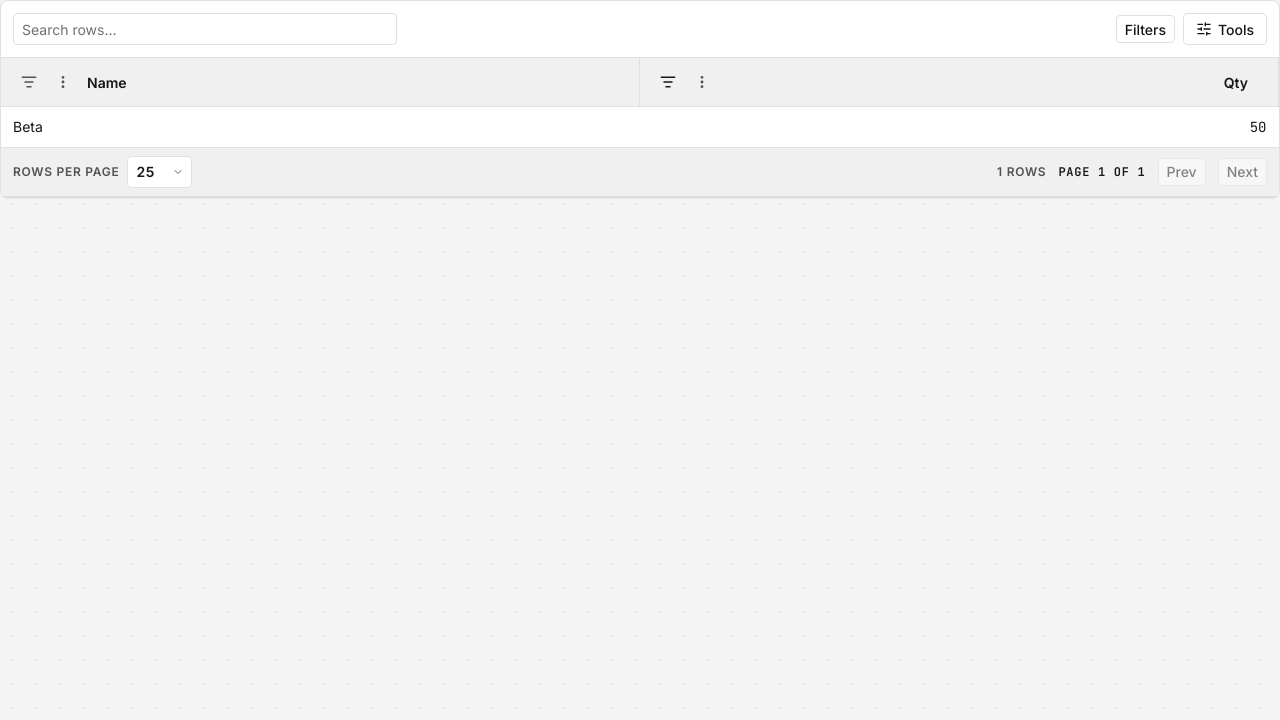
it: floating filter sync › preserves the operator the menu set (greaterThan), not resetting to equals
This screenshot has width=1280, height=720.
Click the button "Filters" at (1145, 29), box [1116,15,1175,43]
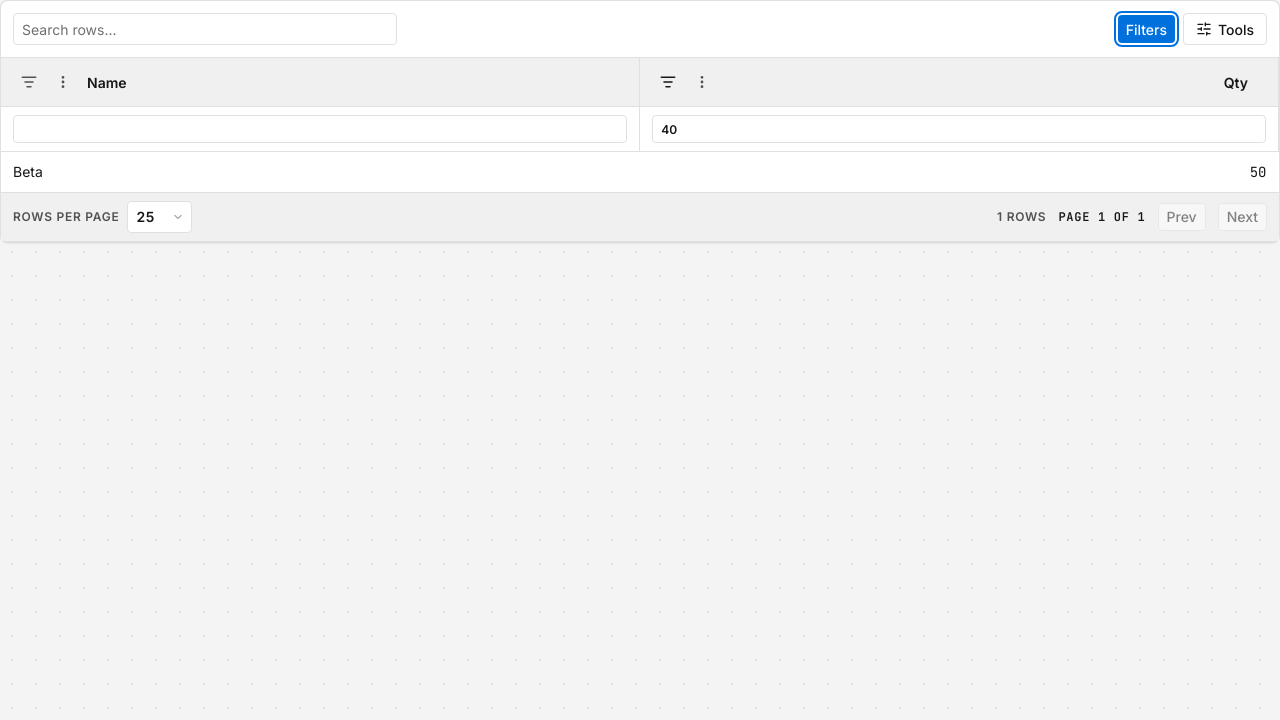
Check: the text "Beta" is shown, box [1,152,640,192]
Check: the number field named "filter qty" holds "40"
Replace the text in the number field named "filter qty" with "4" at (959, 129), box [652,115,1266,143]
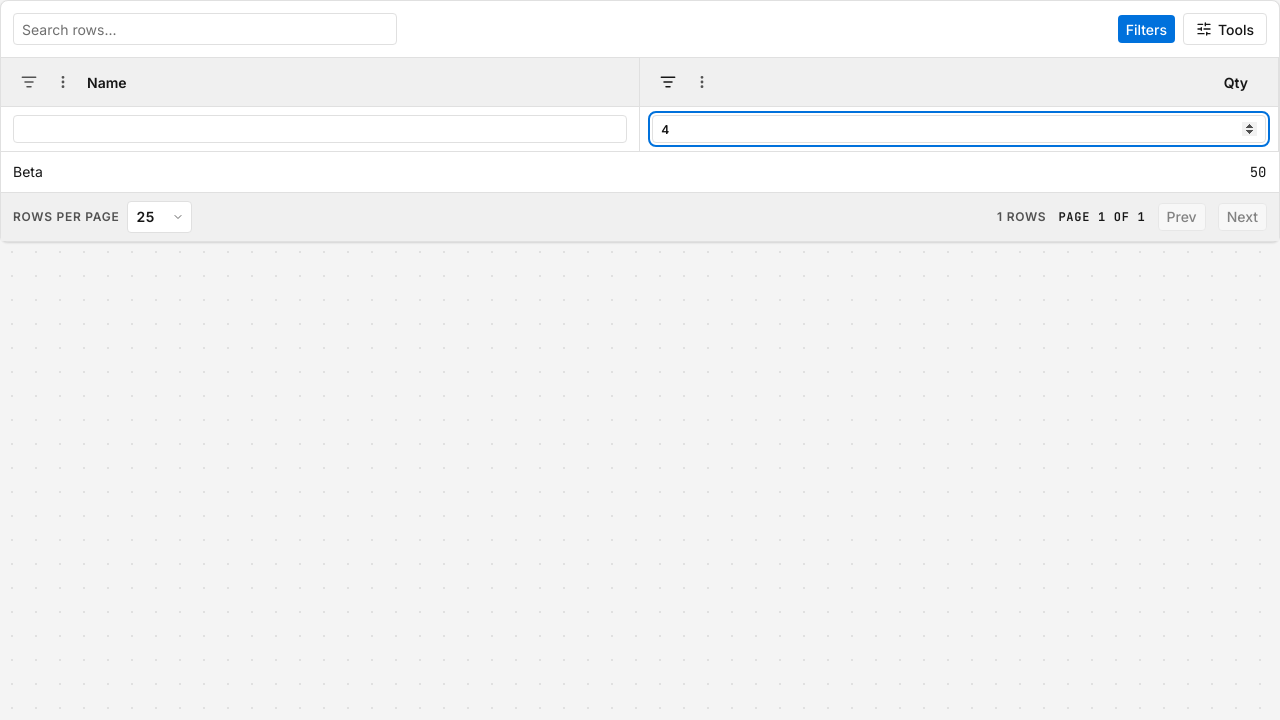
Leave the number field named "filter qty", box [652,115,1266,143]
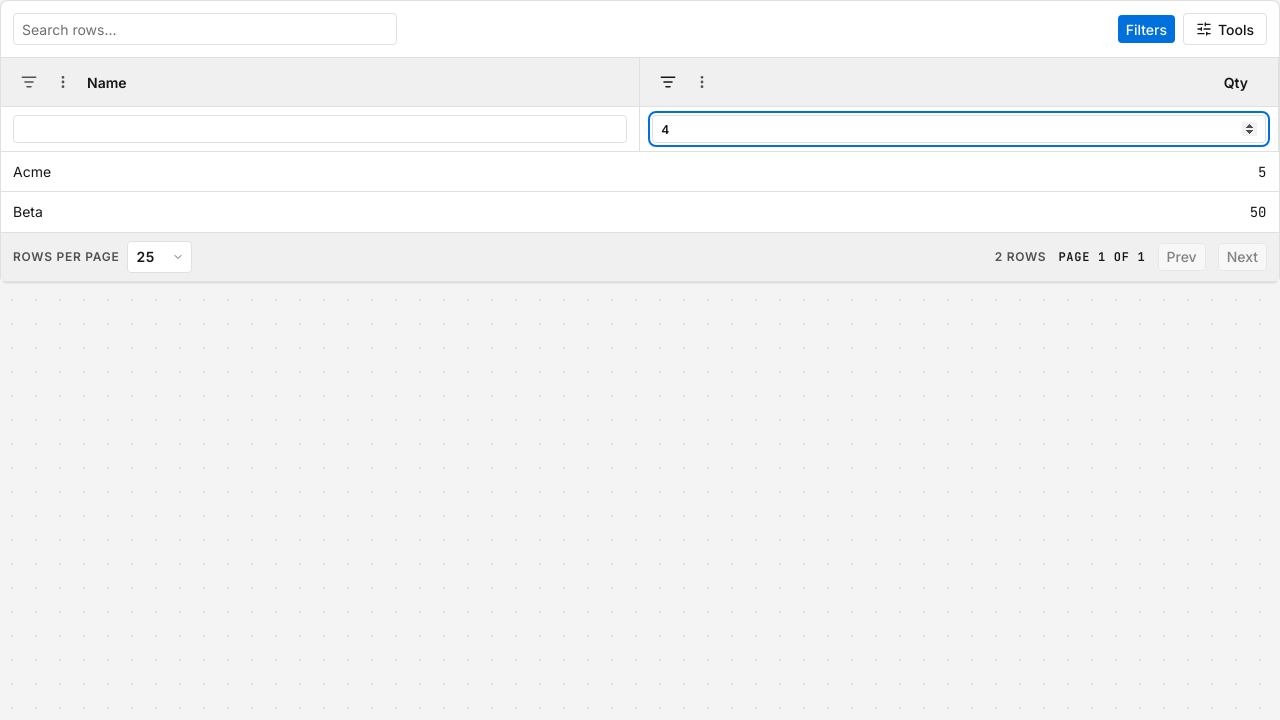
Check: the text "Beta" is shown, box [1,192,640,232]
Check: the text "Acme" is shown, box [1,152,640,192]
